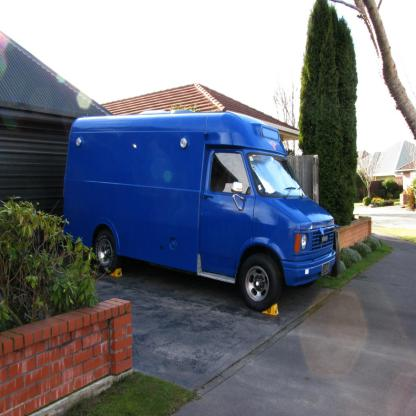Truck: (76, 116, 334, 328)
